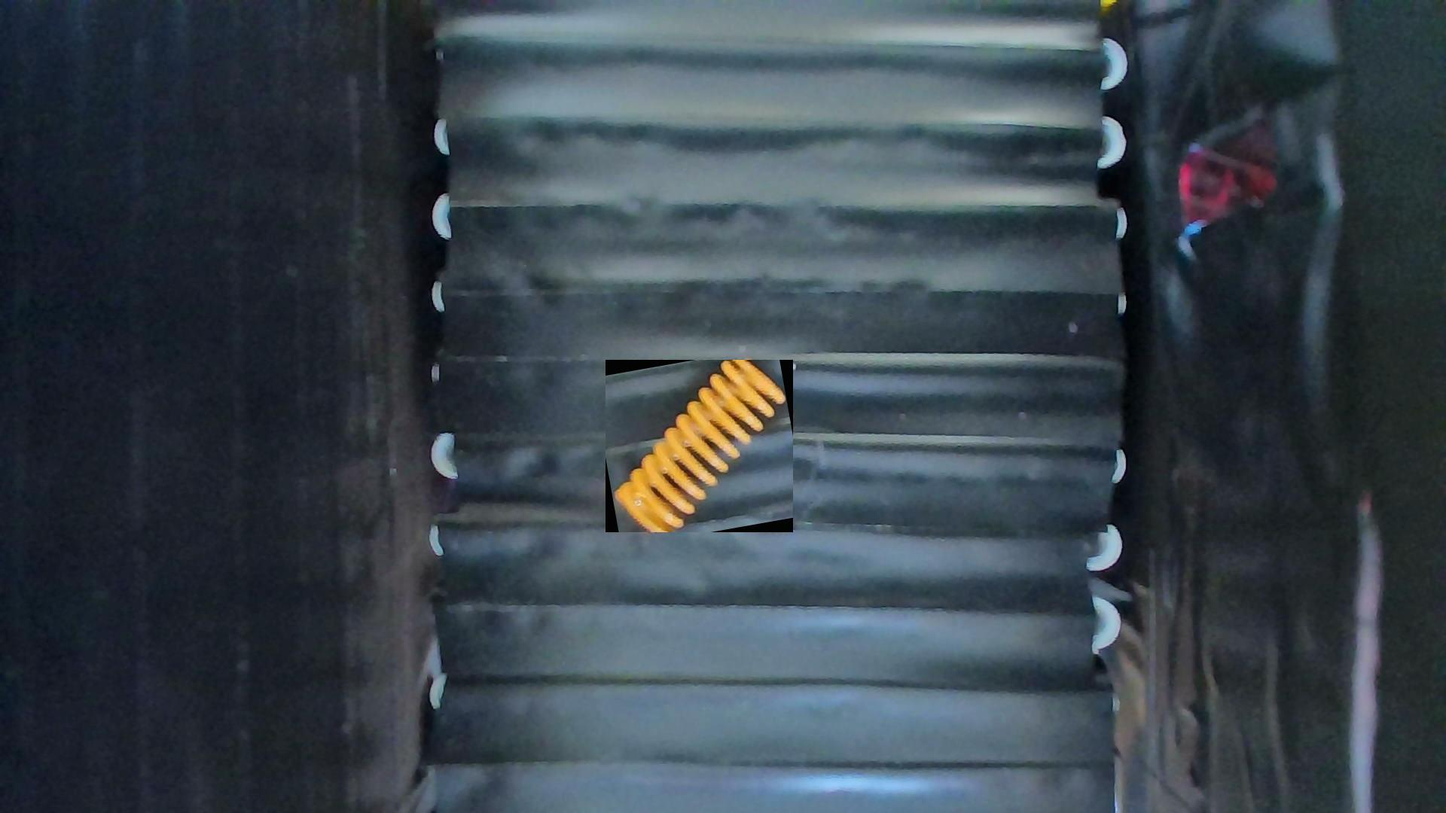spring: (604, 360, 792, 532)
